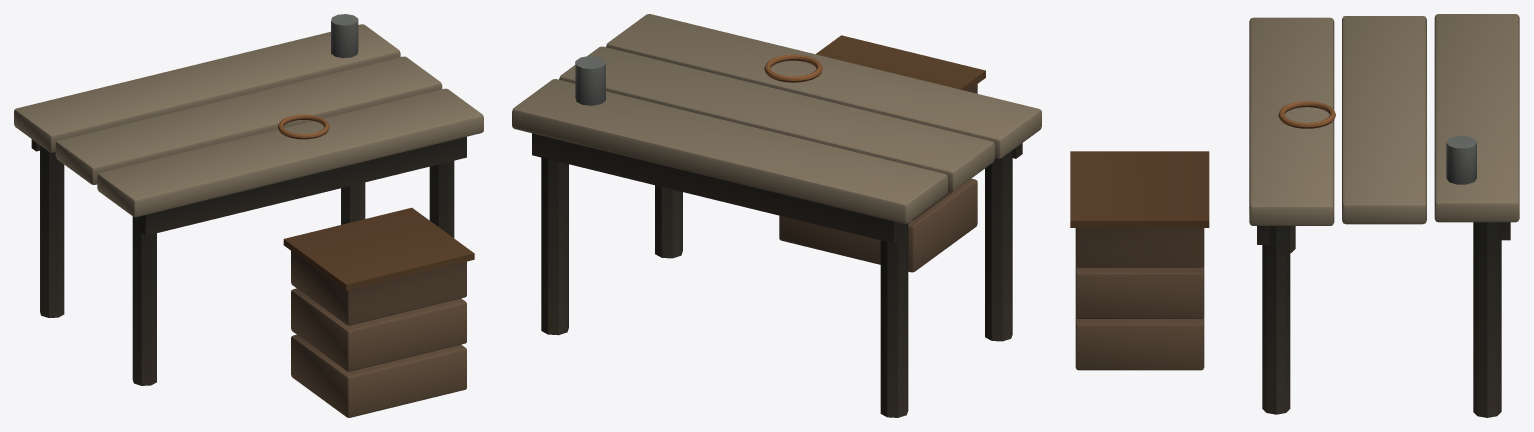
The model's file is desk.glb.
3 views of the same model, side by side, from view 1: azimuth 30°, elevation 25°; view 2: azimuth 150°, elevation 25°; view 3: azimuth 270°, elevation 25° (orthographic). The views are drawn at different scales.
Visible parts, largest first — view 1: desk; view 2: desk; view 3: desk.
Boxes of the visible parts, x1,y1,x2,y2 form: desk: (14,14,483,417); desk: (512,14,1041,417); desk: (1070,14,1519,417).
Bounding box in the file's own units: 1.75 × 1.11 × 1.75.
